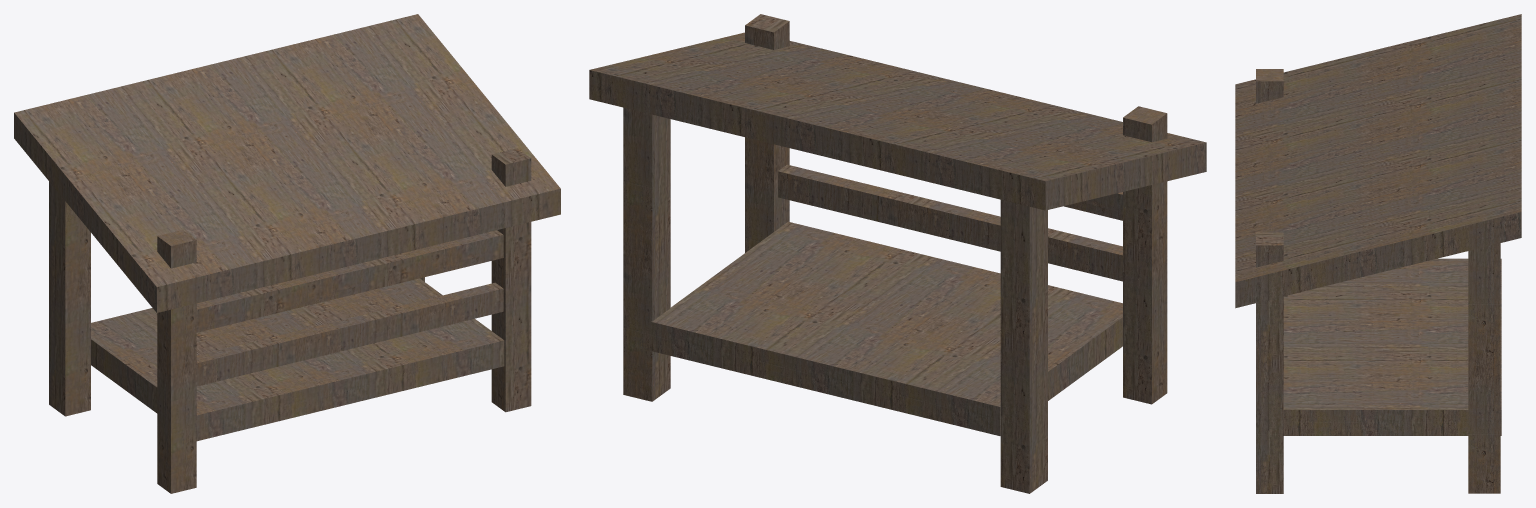
File: OU_AR_Watch_Tower_Stand_04_D.fbx
3 views of the same model, side by side, from view 1: azimuth 30°, elevation 25°; view 2: azimuth 150°, elevation 25°; view 3: azimuth 270°, elevation 25° (orthographic). The views are drawn at different scales.
Visible parts, largest first — view 1: Stand_02; view 2: Stand_02; view 3: Stand_02.
Boxes of the visible parts, x1,y1,x2,y2 form: Stand_02: (14, 14, 560, 493); Stand_02: (589, 14, 1206, 493); Stand_02: (1235, 14, 1521, 493).
Bounding box in the file's own units: 163 × 112 × 99.83.
Materials: 1 (1 with a texture image).
